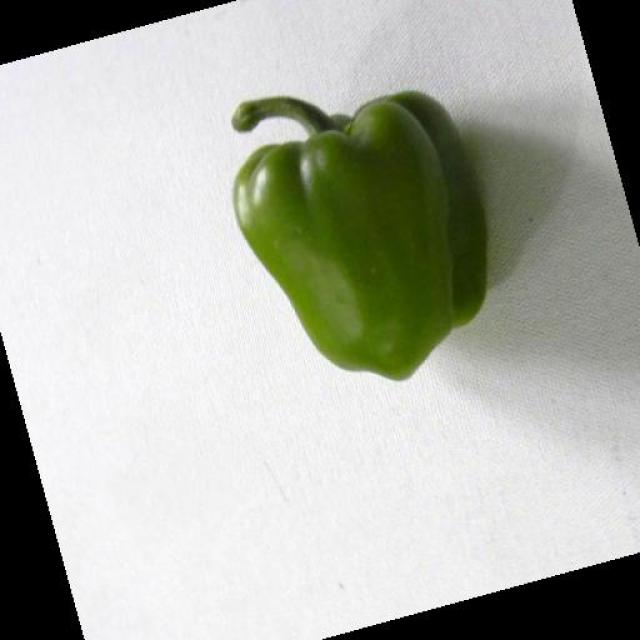Fresh_Capsicum: (202, 71, 562, 385)
